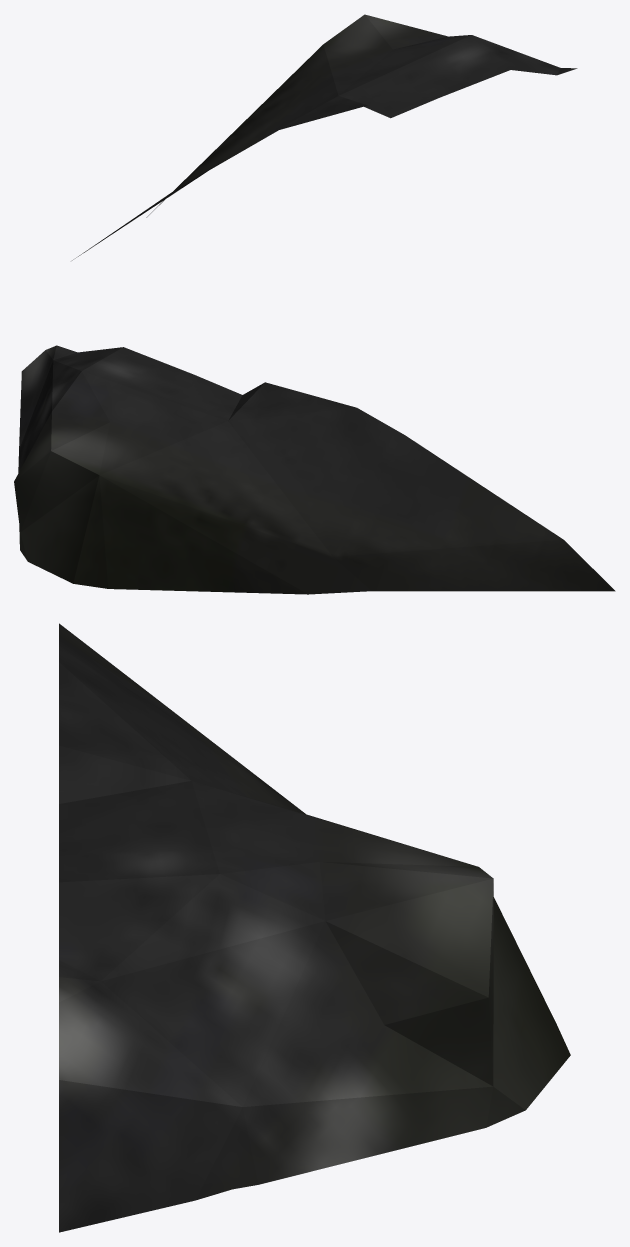
3 renders of one model, top to bottom at view 1: azimuth 30°, elevation 25°; view 2: azimuth 150°, elevation 25°; view 3: azimuth 270°, elevation 25°, orthographic. The views are drawn at different scales.
Bounding box in the file's own units: 0.3607 × 0.0746 × 0.134.
1 material, 1 textured.
